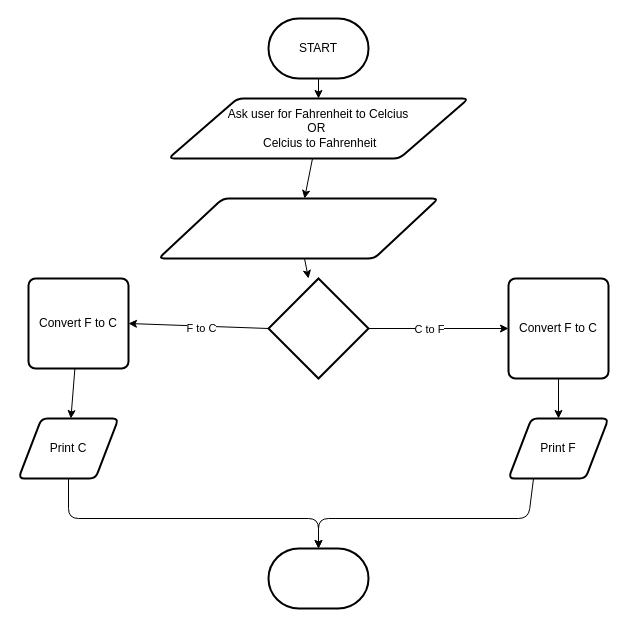
The diagram is 626 pixels wide and 626 high, and some of its shapes have lost their labels. The centre of each missing label's shape, as x and y in pixels:
"Ask user for temperature to convert" belongs at (298,228).
"F or C" belongs at (318,328).
"FINISH" belongs at (318,578).
